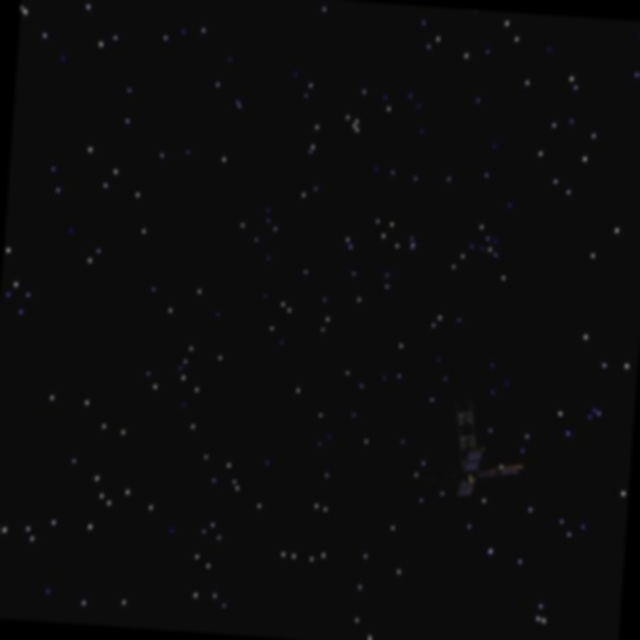satellite: (415, 387, 531, 504)
